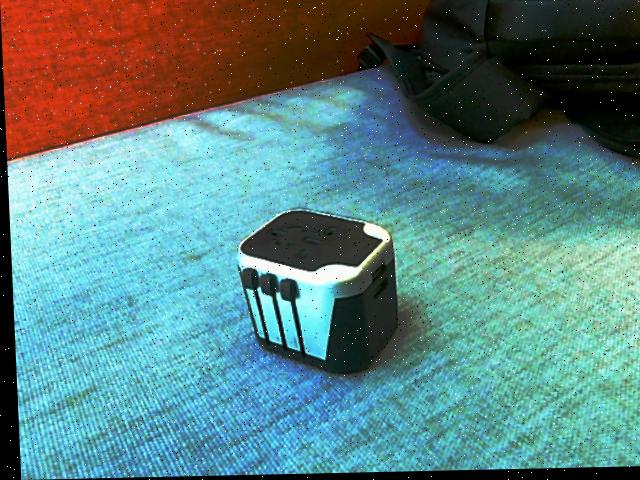adapter: (231, 208, 397, 378)
